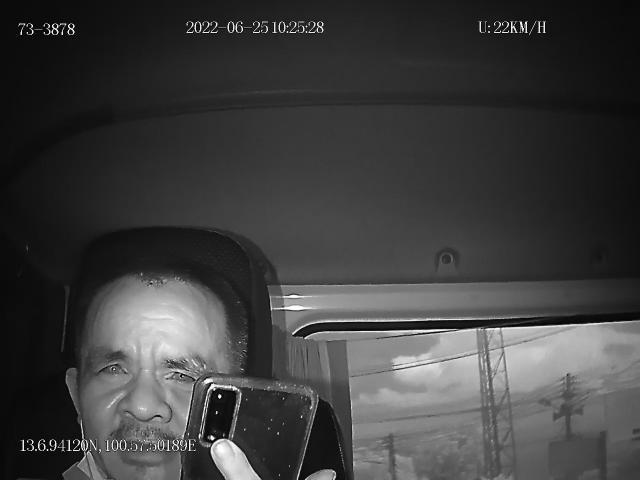PhoneUse: (182, 370, 320, 480)
SafeDriving: (89, 350, 135, 386), (156, 358, 200, 389)
